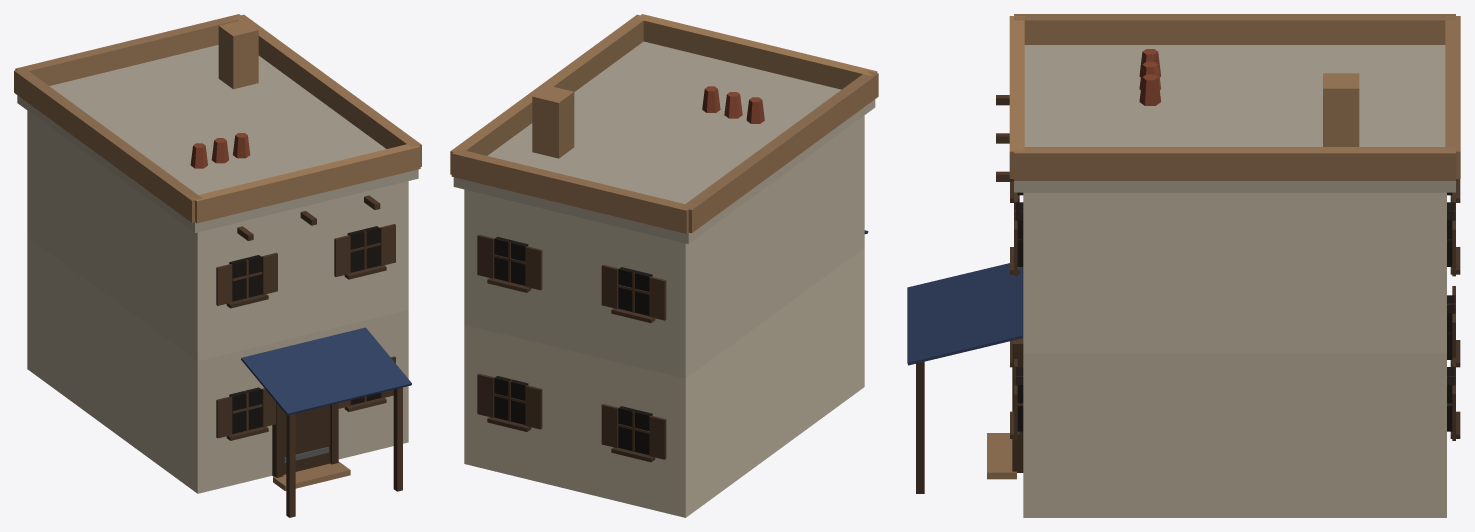
Rendered from walk_sunborn_row.glb.
3 renders of one model, left to right at view 1: azimuth 30°, elevation 25°; view 2: azimuth 150°, elevation 25°; view 3: azimuth 270°, elevation 25°, orthographic. The views are drawn at different scales.
Parts seen in each view (by area): view 1: walk_sunborn_row, walk_sunborn_row_roof; view 2: walk_sunborn_row, walk_sunborn_row_roof; view 3: walk_sunborn_row, walk_sunborn_row_roof.
Part boxes in pixels (x1,y1,x2,y2): walk_sunborn_row: [27, 110, 411, 517]; walk_sunborn_row_roof: [14, 14, 421, 232]; walk_sunborn_row: [464, 115, 868, 517]; walk_sunborn_row_roof: [450, 14, 878, 243]; walk_sunborn_row: [907, 95, 1460, 517]; walk_sunborn_row_roof: [1009, 14, 1460, 192].
Size of what is drawn, in the model's own units: 5.45 by 7.6 by 9.14.
Materials: 2 (2 with a texture image).
